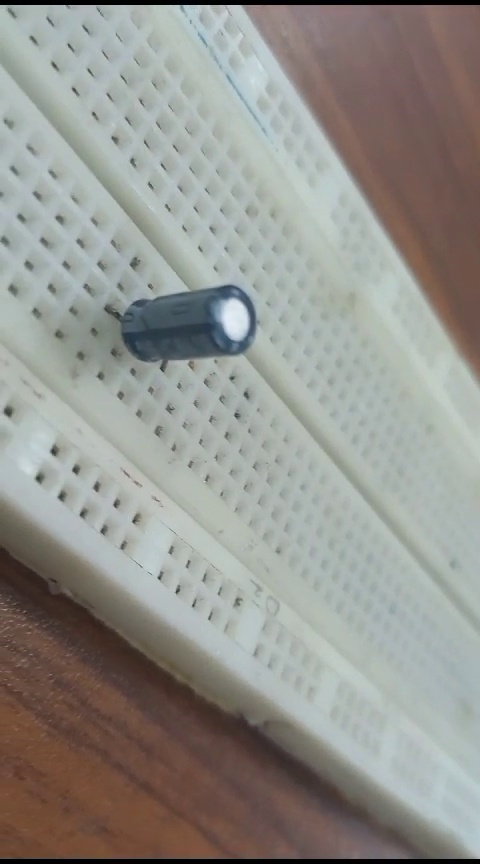capacitor: (91, 275, 264, 381)
